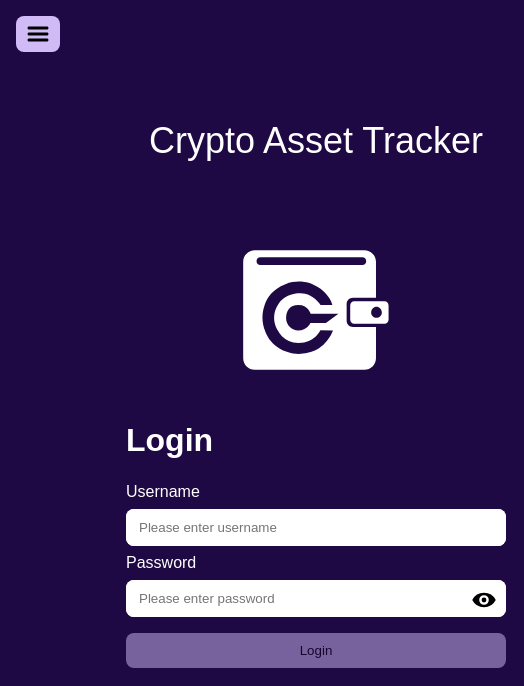
Scenario: Login Scenario › login fails when password is too short
Type "user14" into the field named "username".
click(316, 528); type("user14")  # box [126,509,506,546]
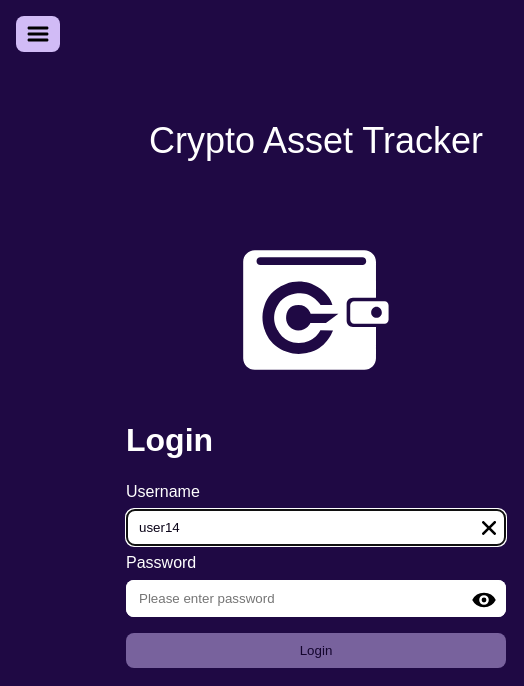
Type "Passwo@" into the password field named "password".
click(316, 599); type("Passwo@")  # box [126,580,506,617]
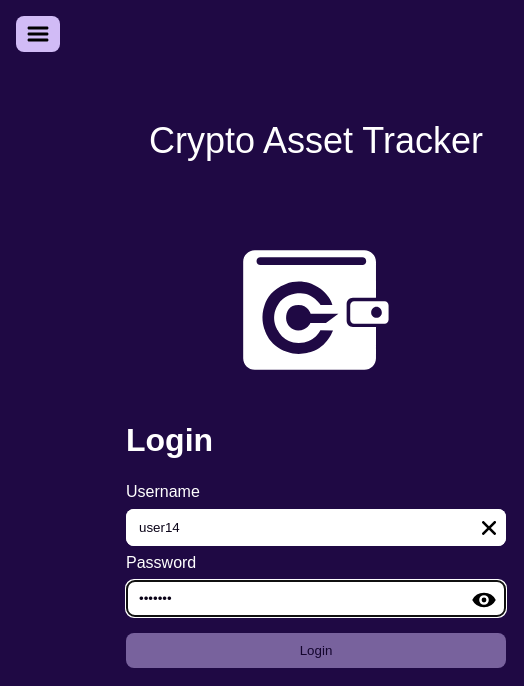
Click the submit button.
click(316, 651)  # box [126,633,506,668]
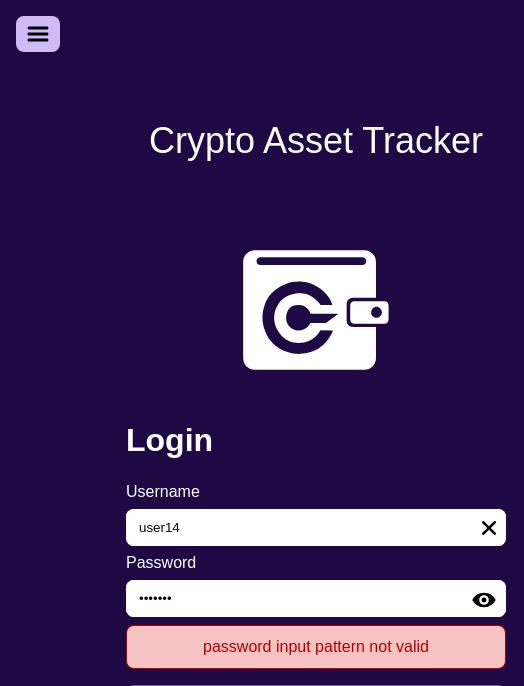
Result: the text "password input pattern not valid" is shown at [126,554,506,669]
